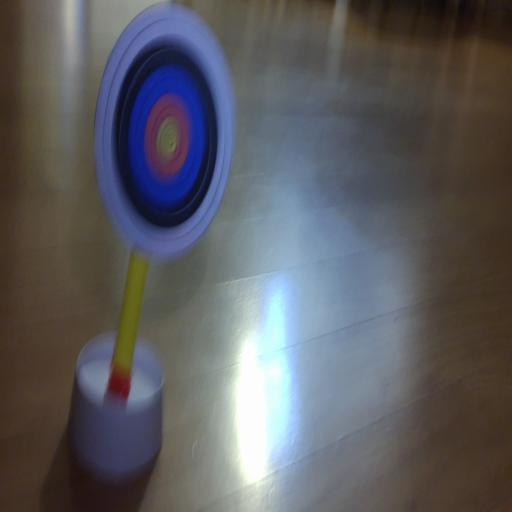target: (95, 5, 235, 257)
